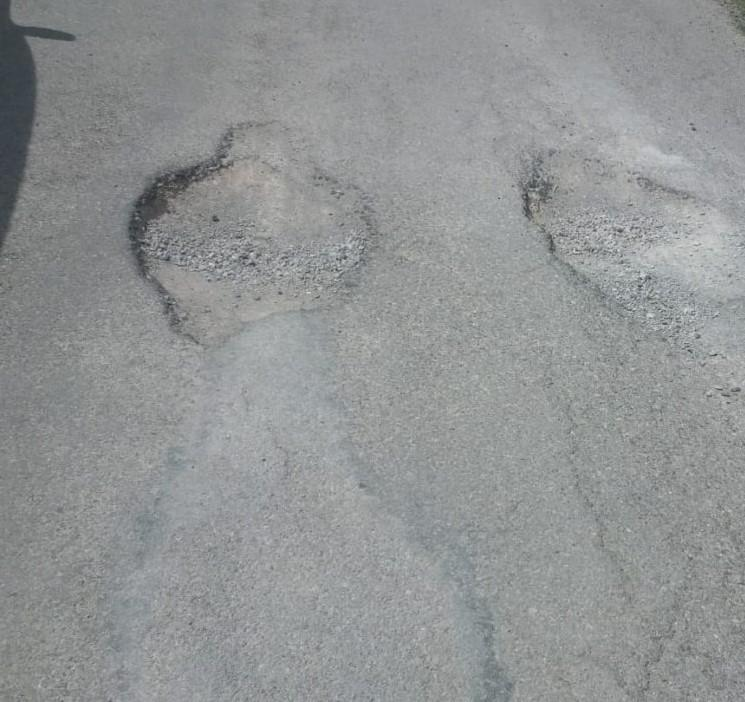pothole: (113, 115, 391, 362), (516, 135, 745, 376)
